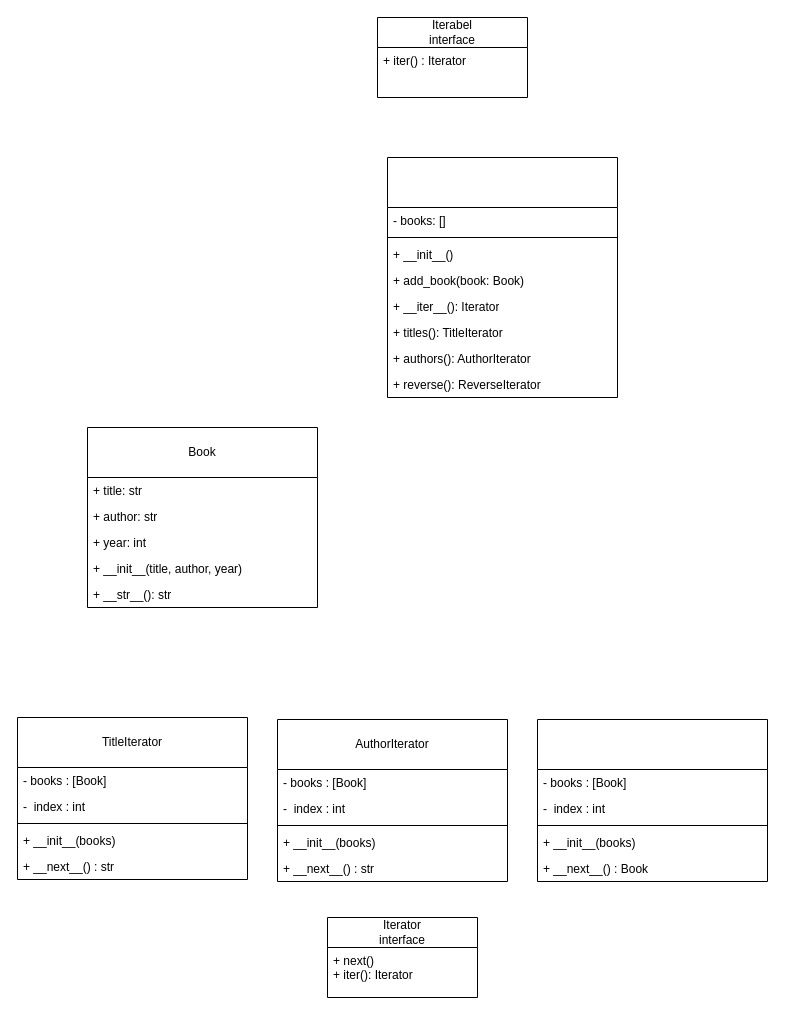
Image size: 785x1018. Some labels were removed from this diagram. The shapes that lost their labels are listed below. From the top down, each one's box as (x1, y1, x2, y2) in pixels, then its label:
(386, 156, 618, 398): Library
(536, 718, 768, 882): ReverseIterator
